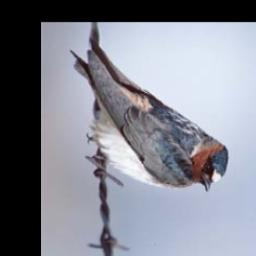Swallow: (65, 36, 229, 190)
